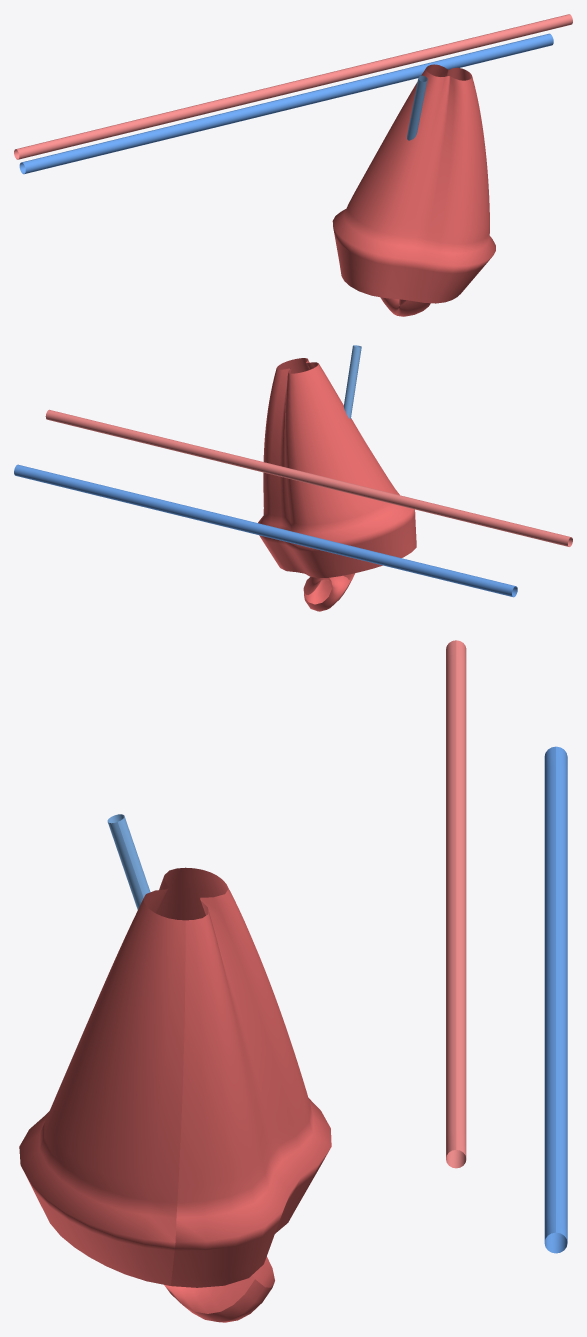
File: cardiovascular.glb
3 renders of one model, top to bottom at view 1: azimuth 30°, elevation 25°; view 2: azimuth 150°, elevation 25°; view 3: azimuth 270°, elevation 25°, orthographic. The views are drawn at different scales.
Visible parts, largest first — view 1: Mesh_Ovine_Cor, Mesh_Ovine_VenaCava, Mesh_Ovine_Aorta, Mesh_Ovine_PulmonaryArtery; view 2: Mesh_Ovine_Cor, Mesh_Ovine_VenaCava, Mesh_Ovine_Aorta, Mesh_Ovine_PulmonaryArtery; view 3: Mesh_Ovine_Cor, Mesh_Ovine_VenaCava, Mesh_Ovine_Aorta, Mesh_Ovine_PulmonaryArtery.
Part boxes in pixels (left/top/right/bottom): Mesh_Ovine_Cor: left=332, top=64, right=495, bottom=316; Mesh_Ovine_VenaCava: left=19, top=33, right=553, bottom=174; Mesh_Ovine_Aorta: left=14, top=14, right=572, bottom=159; Mesh_Ovine_PulmonaryArtery: left=407, top=75, right=427, bottom=140; Mesh_Ovine_Cor: left=258, top=358, right=416, bottom=611; Mesh_Ovine_VenaCava: left=14, top=464, right=517, bottom=597; Mesh_Ovine_Aorta: left=45, top=409, right=572, bottom=546; Mesh_Ovine_PulmonaryArtery: left=343, top=345, right=361, bottom=419; Mesh_Ovine_Cor: left=19, top=867, right=331, bottom=1322; Mesh_Ovine_VenaCava: left=544, top=746, right=567, bottom=1253; Mesh_Ovine_Aorta: left=446, top=640, right=466, bottom=1168; Mesh_Ovine_PulmonaryArtery: left=107, top=814, right=150, bottom=909.
Bounding box in the file's own units: 0.8555 × 0.381 × 0.3843.
